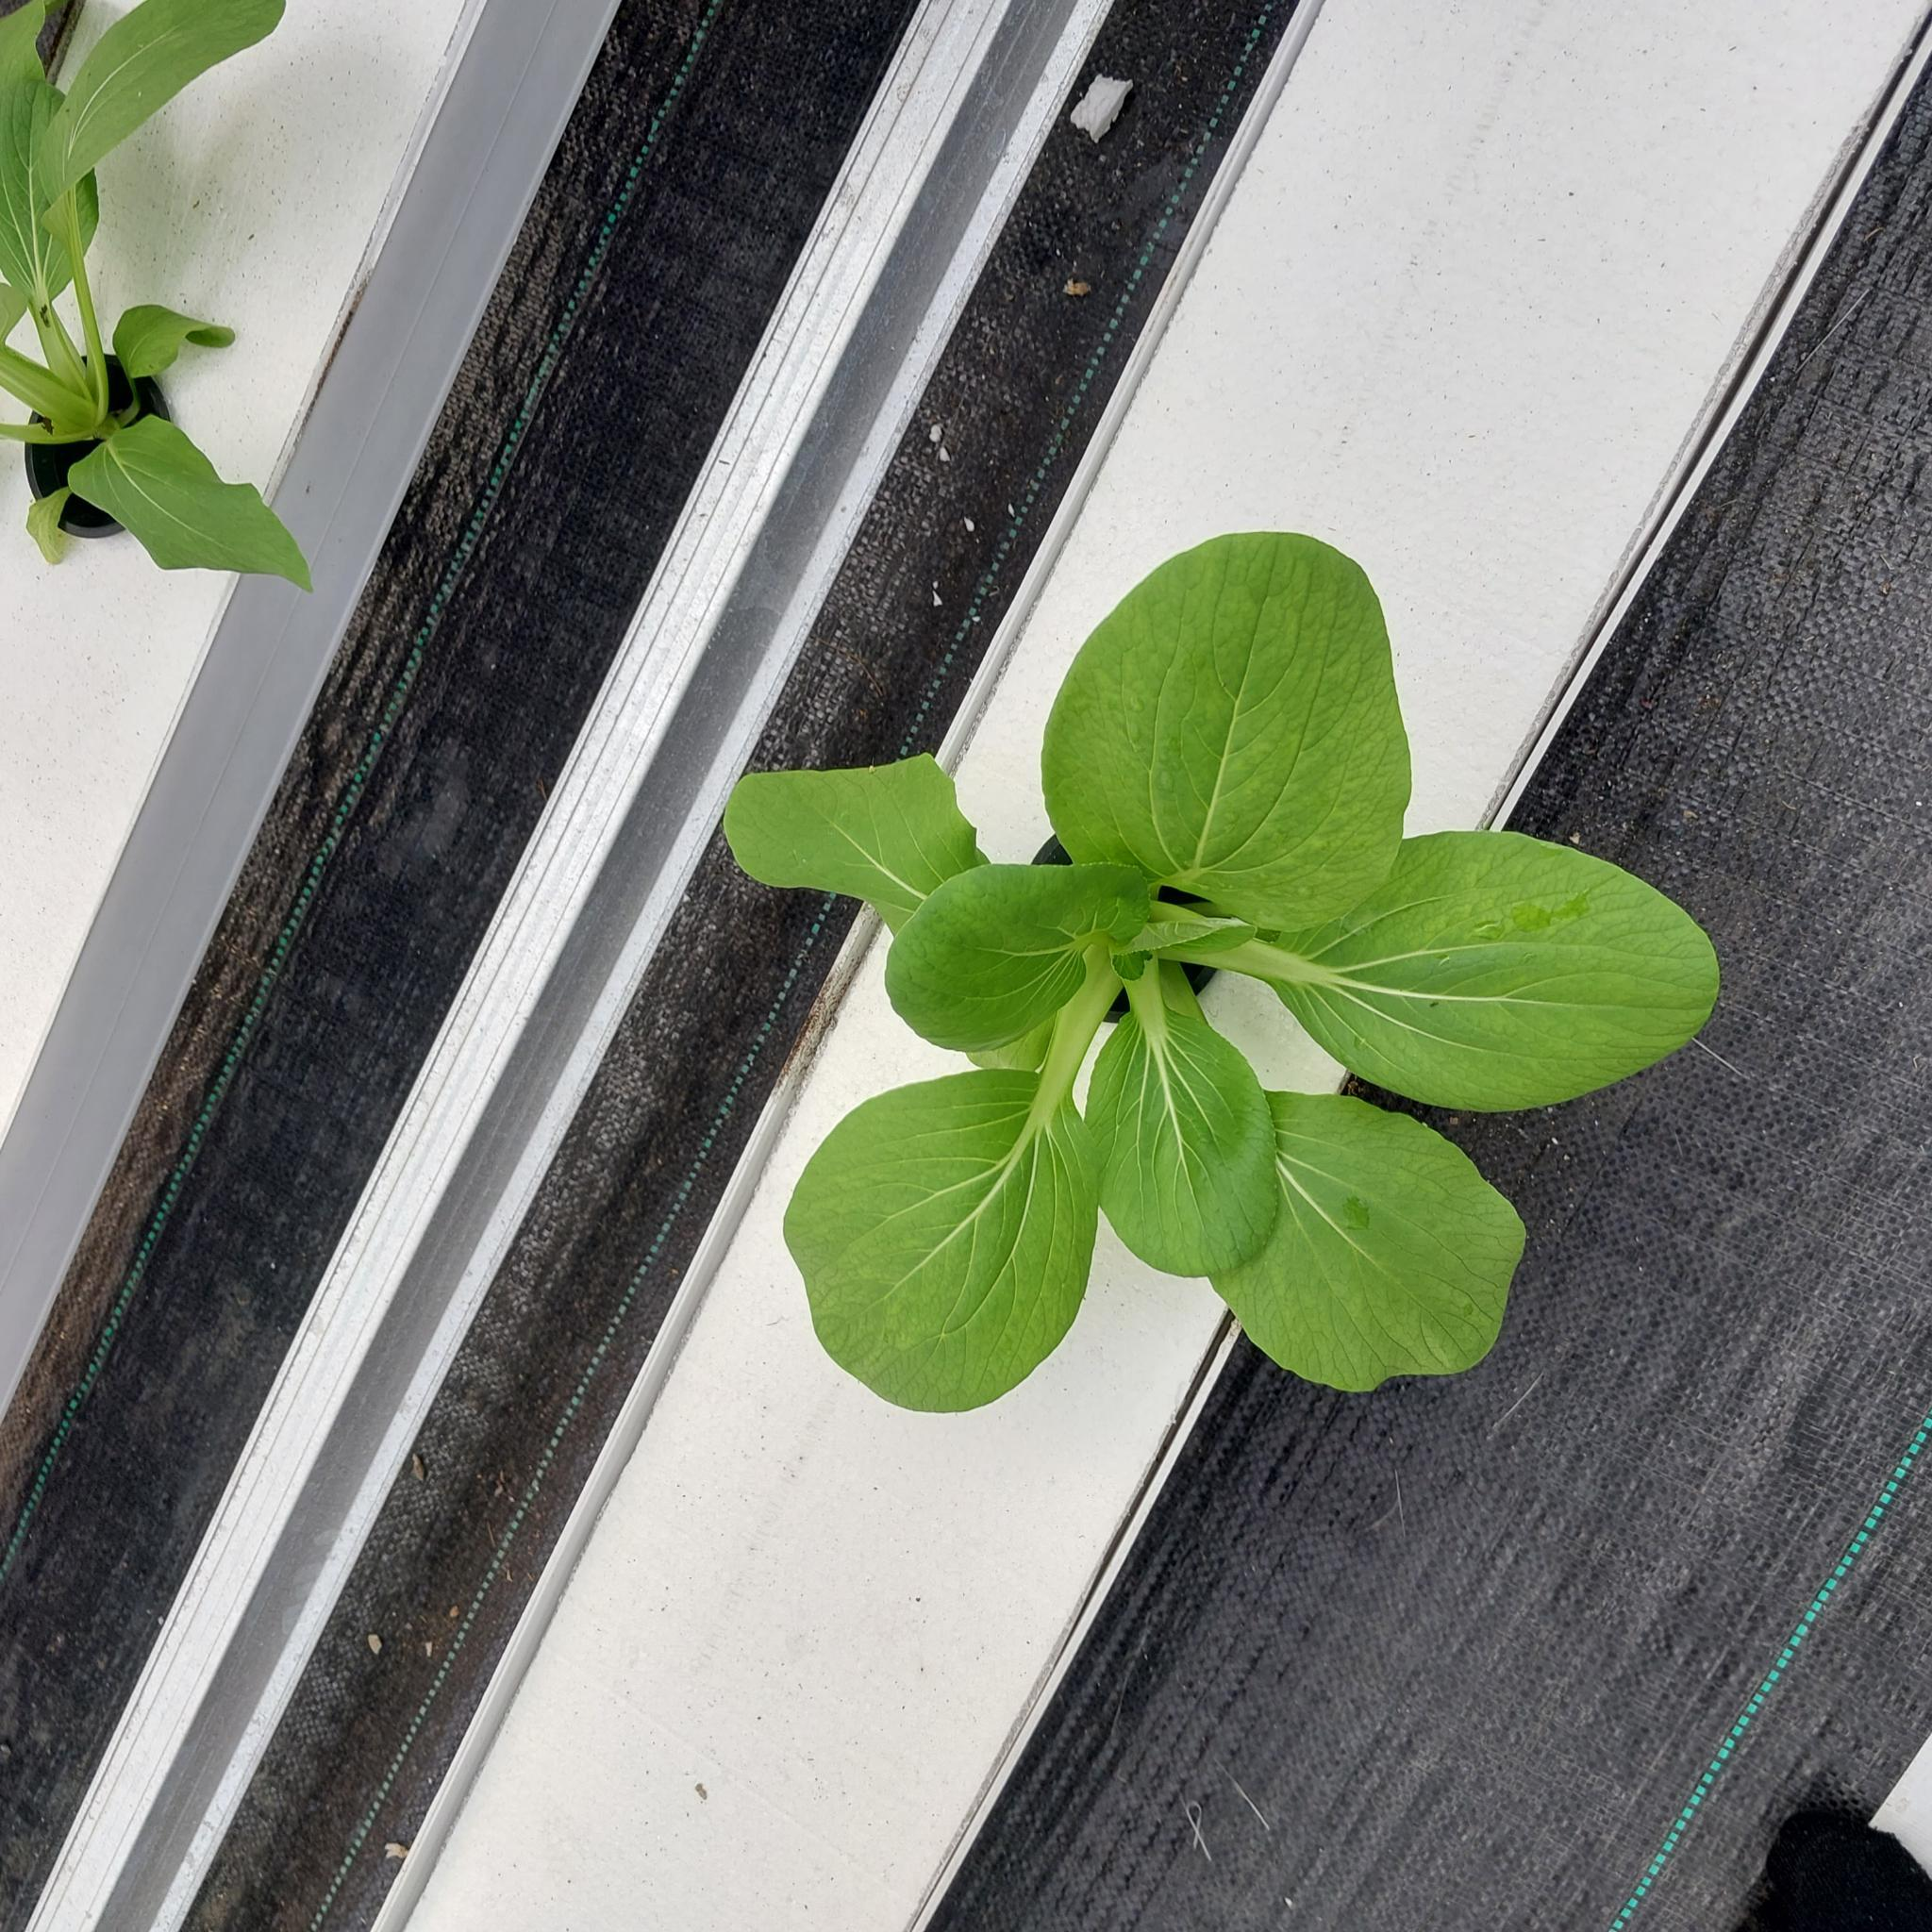Healthy-Pechay: (4, 2, 326, 589), (1044, 529, 1408, 927), (1244, 837, 1727, 1113), (782, 1063, 1090, 1417), (1200, 1077, 1529, 1398), (1085, 957, 1277, 1276), (895, 862, 1168, 1054), (41, 0, 287, 198), (722, 755, 982, 936), (1021, 973, 1109, 1141), (1138, 860, 1253, 915)
